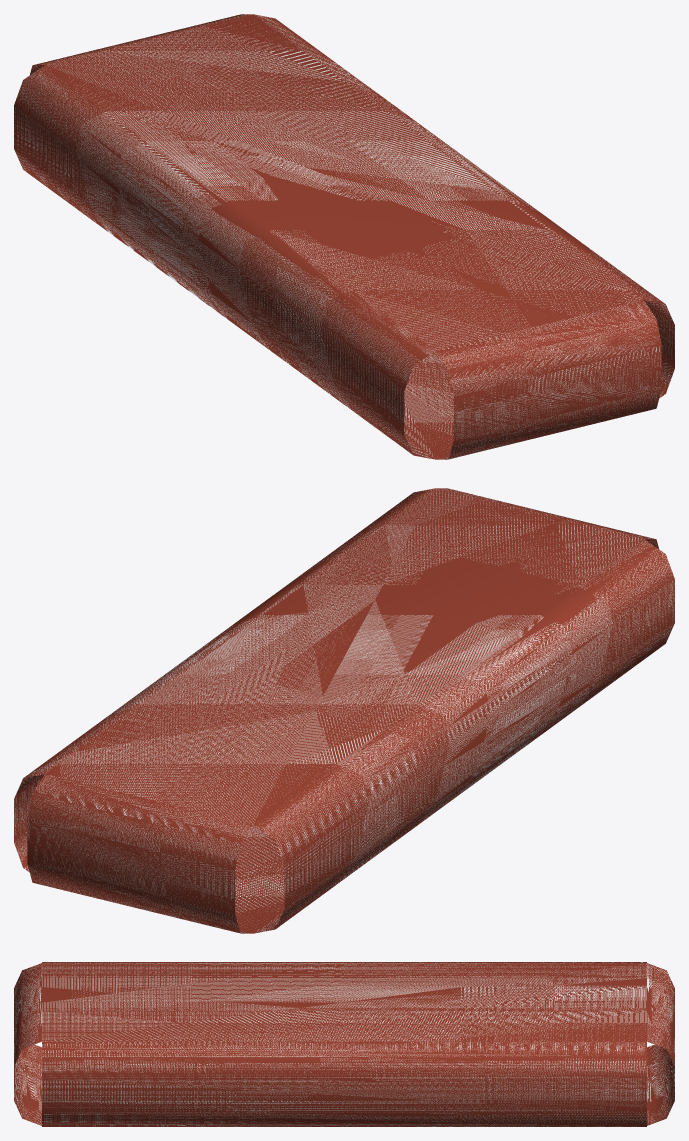
Rendered from original-4.obj.
The picture shows the model from 3 angles, top to bottom: view 1: azimuth 30°, elevation 25°; view 2: azimuth 150°, elevation 25°; view 3: azimuth 270°, elevation 25°; orthographic projection. The views are drawn at different scales.
Visible parts, largest first — view 1: mesh4/mesh4-geometry#mesh4-geometry; view 2: mesh4/mesh4-geometry#mesh4-geometry; view 3: mesh4/mesh4-geometry#mesh4-geometry.
Boxes of the visible parts, left/top/right/bottom form: mesh4/mesh4-geometry#mesh4-geometry: left=14, top=14, right=674, bottom=459; mesh4/mesh4-geometry#mesh4-geometry: left=14, top=488, right=674, bottom=933; mesh4/mesh4-geometry#mesh4-geometry: left=14, top=962, right=674, bottom=1126.
Bounding box in the file's own units: 0.0242 × 0.00932 × 0.0662.
